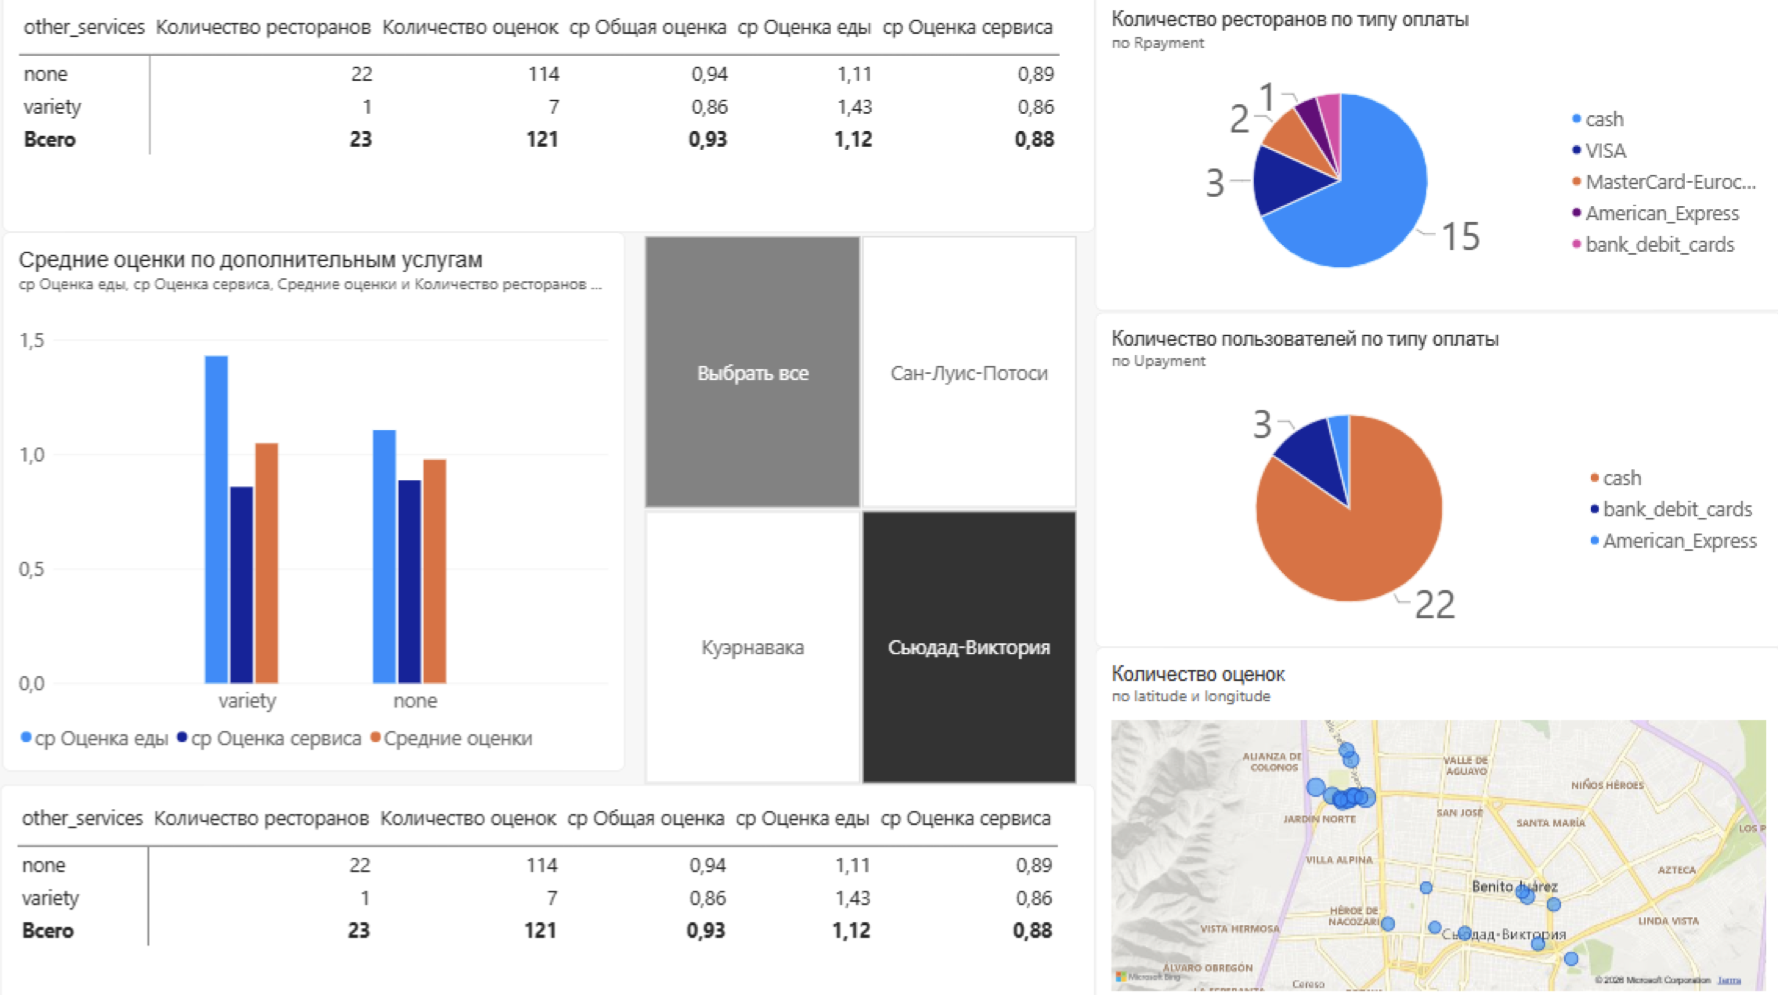

This screenshot's page, from the dashboard's own definition file:
{"tool":"powerbi","page":{"name":"Другие инсайты","canvas":[1920,1080],"ordinal":2},"visuals":[{"type":"pivotTable","fields":{"Rows":["geoplaces2.other_services"],"Values":["Таблица мер.Количество ресторанов","Таблица мер.Количество оценок","Таблица мер.Средняя оценка","Таблица мер.Оценка еды","Таблица мер.Оценка сервиса"]},"box":[10,0,1116,244],"z":0},{"type":"clusteredColumnChart","title":"Средние оценки по дополнительным услугам","fields":{"Category":["geoplaces2.other_services"],"Y":["Таблица мер.Оценка еды","Таблица мер.Оценка сервиса","Таблица мер.Средние оценки"]},"box":[10,244,636,550],"z":1000},{"type":"pieChart","fields":{"Category":["userpayment.Upayment"],"Y":["Таблица мер.Количество пользователей оплата"]},"box":[1125,325,702.5,342.5],"z":2000},{"type":"pieChart","fields":{"Category":["chefmozaccepts.Rpayment"],"Y":["Таблица мер.Количество ресторанов по оплата"]},"box":[1125,0,702.5,325],"z":3000},{"type":"map","fields":{"Size":["Таблица мер.Количество оценок"],"X":["geoplaces2.longitude"],"Y":["geoplaces2.latitude"]},"box":[1125,667.5,702,368],"z":4000},{"type":"pivotTable","fields":{"Rows":["geoplaces2.other_services"],"Values":["Таблица мер.Количество ресторанов","Таблица мер.Количество оценок","Таблица мер.Средняя оценка","Таблица мер.Оценка еды","Таблица мер.Оценка сервиса"]},"box":[7.5,807.5,1117.5,227.5],"z":5000},{"type":"slicer","fields":{"Values":["geoplaces2.Correct_City"]},"box":[645,245,480,562.5],"z":6000}]}

Visuals, with their boxes in screenshot pixels (x1, y1, x2, y2), scaled from the page's 1920x1080 canvas onto the 1778x995 screenshot:
pivotTable - geoplaces2.other_services x Таблица мер.Количество ресторанов: <box>9,0,1043,225</box>
"Средние оценки по дополнительным услугам" clusteredColumnChart: <box>9,225,598,732</box>
pieChart - userpayment.Upayment x Таблица мер.Количество пользователей оплата: <box>1042,299,1692,615</box>
pieChart - chefmozaccepts.Rpayment x Таблица мер.Количество ресторанов по оплата: <box>1042,0,1692,299</box>
map - Таблица мер.Количество оценок x geoplaces2.longitude: <box>1042,615,1692,954</box>
pivotTable - geoplaces2.other_services x Таблица мер.Количество ресторанов: <box>7,744,1042,954</box>
slicer - geoplaces2.Correct_City: <box>597,226,1042,744</box>
